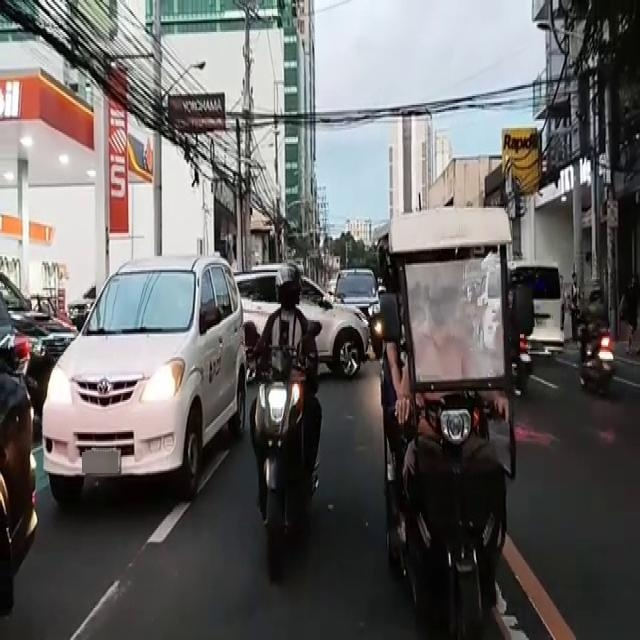car: (57, 274, 238, 504), (334, 271, 380, 352)
motorcycle: (387, 220, 513, 620), (254, 266, 320, 578), (572, 274, 624, 399)
